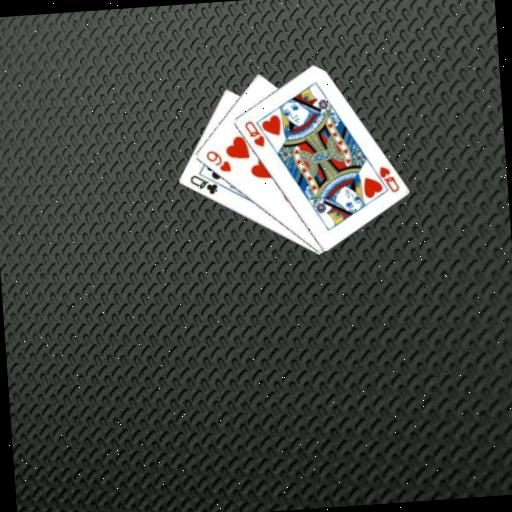9H: (202, 146, 232, 175)
QC: (186, 170, 220, 198)
QH: (368, 162, 402, 196), (241, 117, 267, 151)
